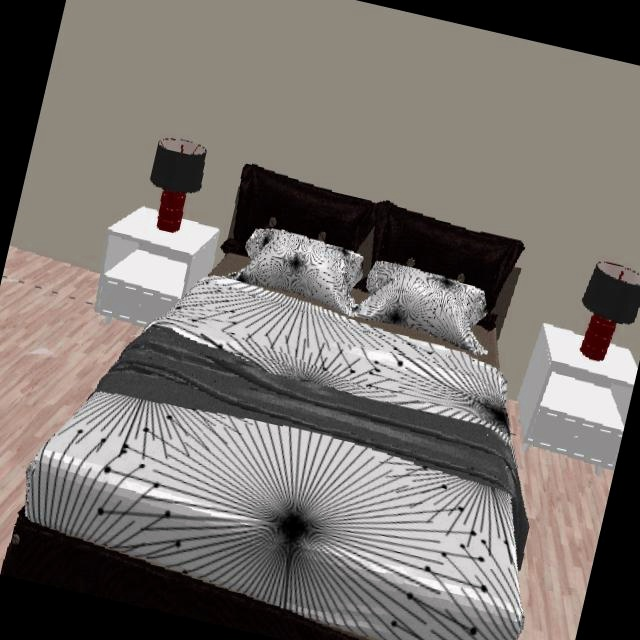bed: (20, 166, 527, 640)
lamp: (579, 260, 640, 361), (148, 137, 208, 234)
nighttable: (516, 322, 638, 472), (93, 206, 219, 326)
